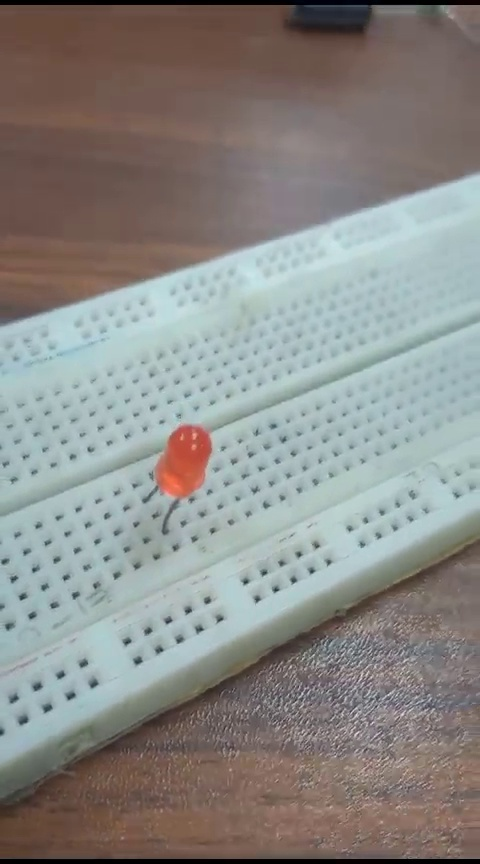LED: (151, 417, 220, 536)
